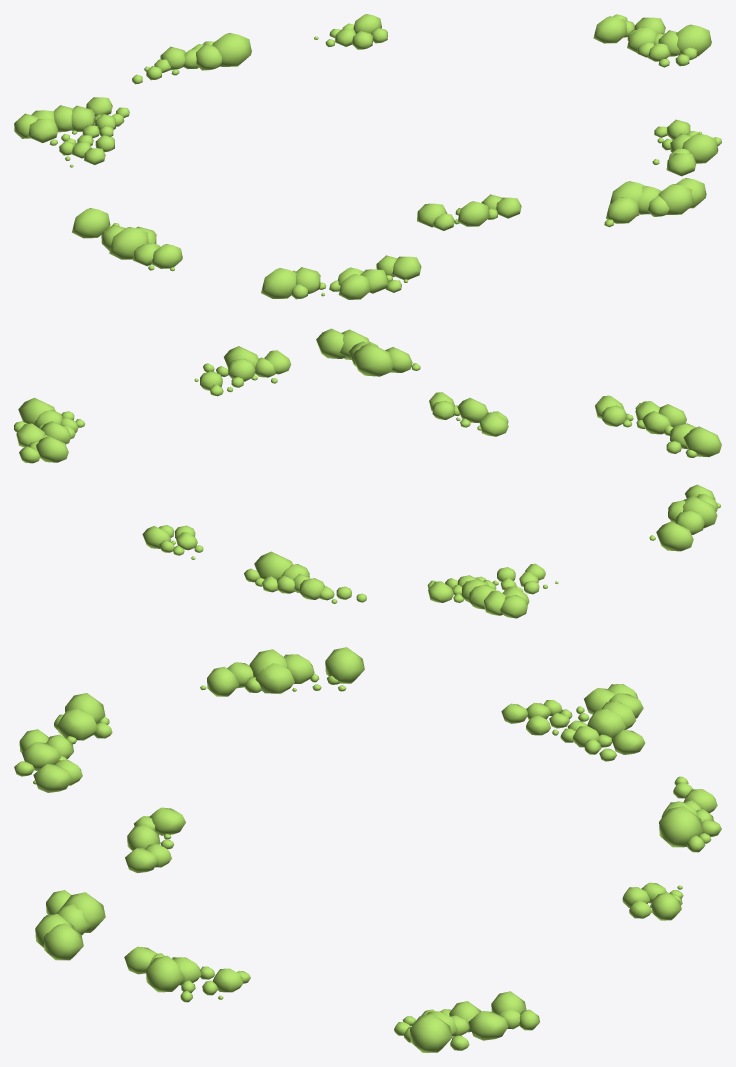
Rendered from grass.fbx.
The picture shows the model from 3 angles, top to bottom: view 1: azimuth 30°, elevation 25°; view 2: azimuth 150°, elevation 25°; view 3: azimuth 270°, elevation 25°; orthographic projection. The views are drawn at different scales.
Parts seen in each view (by area): view 1: zGround.002; view 2: zGround.002; view 3: zGround.002.
Boxes of the visible parts, left/top/right/bottom form: zGround.002: left=14, top=14, right=721, bottom=299; zGround.002: left=14, top=328, right=721, bottom=618; zGround.002: left=14, top=647, right=721, bottom=1052.
Bounding box in the file's own units: 2590 × 116 × 1988.
